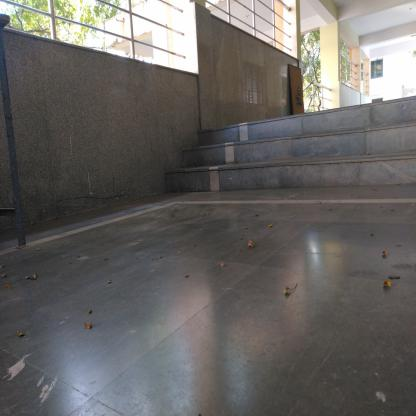stairs: (215, 125, 409, 190)
